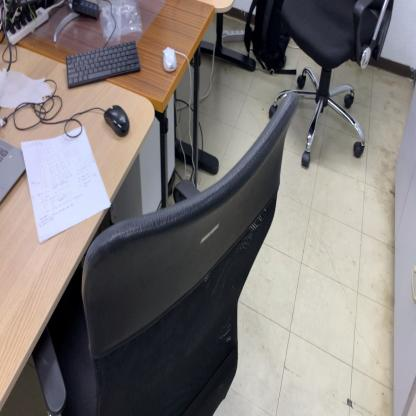chair: (29, 91, 298, 416), (270, 0, 397, 170)
